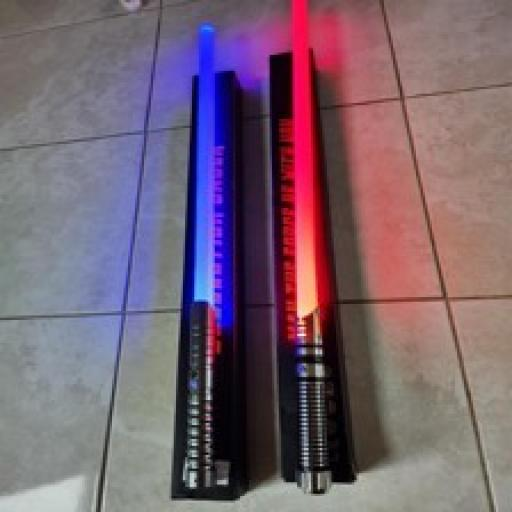lightsaber: (174, 20, 224, 494), (290, 0, 329, 496)
